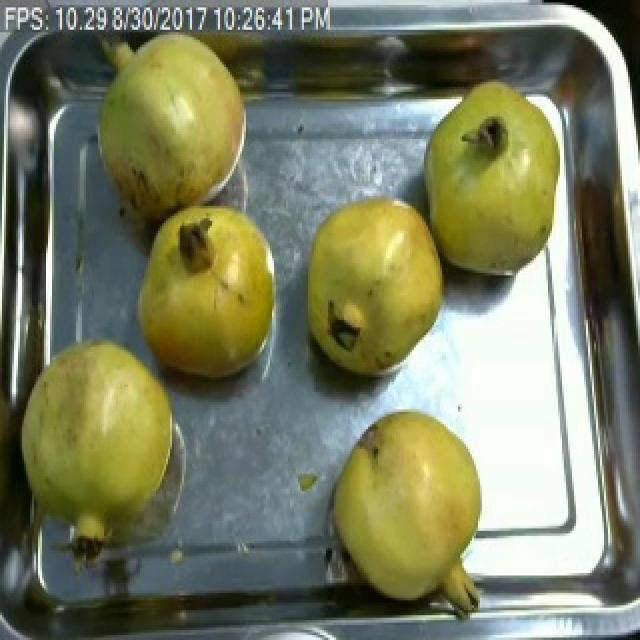fruit: (320, 394, 494, 610), (410, 65, 572, 292), (14, 322, 188, 526), (90, 18, 256, 228), (294, 183, 456, 390), (126, 193, 286, 394)
